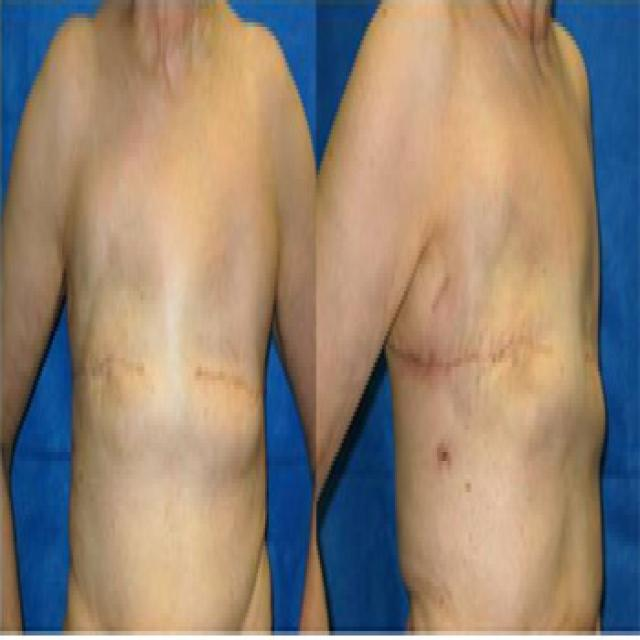Seno herido: (382, 178, 554, 421), (69, 273, 169, 454), (174, 273, 269, 454), (556, 191, 610, 457)
